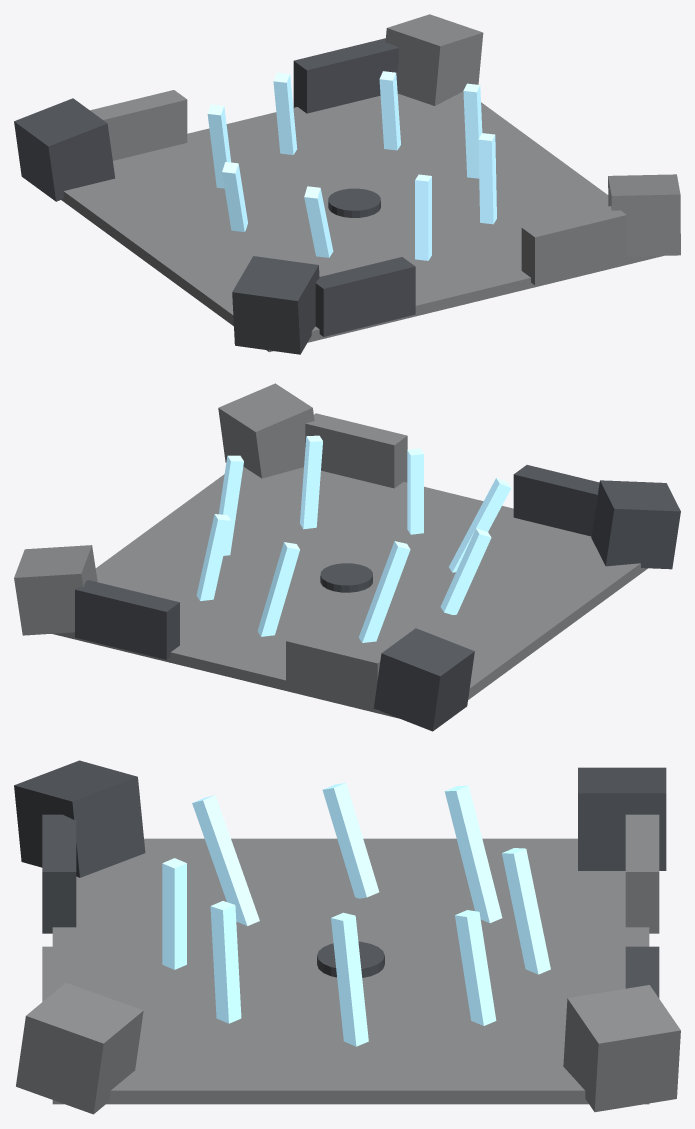
3 views of the same model, one above another, from view 1: azimuth 30°, elevation 25°; view 2: azimuth 150°, elevation 25°; view 3: azimuth 270°, elevation 25° (orthographic). The views are drawn at different scales.
Parts seen in each view (by area): view 1: DistrictFloor, BoundaryMass0, BoundaryMass2, BoundaryMass1, BoundaryNorthEast, BoundaryNorthWest, BoundarySouthEast, BoundaryMass3, BoundarySouthWest, CathedralCrystal1, CathedralCrystal2, CathedralCrystal4 (+6 smaller); view 2: DistrictFloor, BoundaryMass0, BoundaryMass2, BoundaryMass3, BoundarySouthEast, BoundaryMass1, BoundarySouthWest, BoundaryNorthEast, BoundaryNorthWest, CathedralCrystal5, CathedralCrystal4, CathedralCrystal6 (+6 smaller); view 3: DistrictFloor, BoundaryMass1, BoundaryMass3, BoundaryMass2, BoundaryMass0, BoundarySouthWest, BoundaryNorthWest, CathedralCrystal5, CathedralCrystal2, CathedralCrystal7, CathedralCrystal4, CathedralCrystal1 (+6 smaller).
Boxes of the visible parts, x1=… form: DistrictFloor: x1=61, y1=91, x2=663, y2=352; BoundaryMass0: x1=14, y1=98, x2=115, y2=201; BoundaryMass2: x1=232, y1=256, x2=319, y2=354; BoundaryMass1: x1=385, y1=14, x2=483, y2=105; BoundaryNorthEast: x1=521, y1=206, x2=626, y2=285; BoundaryNorthWest: x1=315, y1=257, x2=415, y2=336; BoundarySouthEast: x1=293, y1=38, x2=398, y2=113; BoundaryMass3: x1=608, y1=174, x2=680, y2=256; BoundarySouthWest: x1=90, y1=90, x2=187, y2=160; CathedralCrystal1: x1=478, y1=133, x2=496, y2=224; CathedralCrystal2: x1=463, y1=83, x2=482, y2=178; CathedralCrystal4: x1=273, y1=72, x2=297, y2=154; DistrictFloor: x1=52, y1=466, x2=647, y2=718; BoundaryMass0: x1=373, y1=628, x2=474, y2=731; BoundaryMass2: x1=591, y1=480, x2=680, y2=569; BoundaryMass3: x1=218, y1=383, x2=314, y2=478; BoundarySouthEast: x1=75, y1=580, x2=179, y2=659; BoundaryMass1: x1=14, y1=545, x2=97, y2=635; BoundarySouthWest: x1=286, y1=631, x2=382, y2=711; BoundaryNorthEast: x1=305, y1=413, x2=407, y2=488; BoundaryNorthWest: x1=513, y1=465, x2=599, y2=536; CathedralCrystal5: x1=358, y1=541, x2=410, y2=642; CathedralCrystal4: x1=257, y1=542, x2=299, y2=636; CathedralCrystal6: x1=440, y1=528, x2=491, y2=614; DistrictFloor: x1=52, y1=838, x2=649, y2=1104; BoundaryMass1: x1=563, y1=985, x2=680, y2=1112; BoundaryMass3: x1=16, y1=983, x2=143, y2=1114; BoundaryMass2: x1=14, y1=760, x2=145, y2=877; BoundaryMass0: x1=578, y1=767, x2=666, y2=870; BoundarySouthWest: x1=625, y1=814, x2=659, y2=933; BoundaryNorthWest: x1=42, y1=814, x2=76, y2=933; CathedralCrystal5: x1=444, y1=785, x2=502, y2=922; CathedralCrystal2: x1=331, y1=912, x2=368, y2=1046; CathedralCrystal7: x1=192, y1=795, x2=259, y2=925; CathedralCrystal4: x1=502, y1=848, x2=550, y2=974; CathedralCrystal1: x1=210, y1=901, x2=241, y2=1023.
Bounding box in the file's own units: 98.87 × 23.14 × 98.37.
